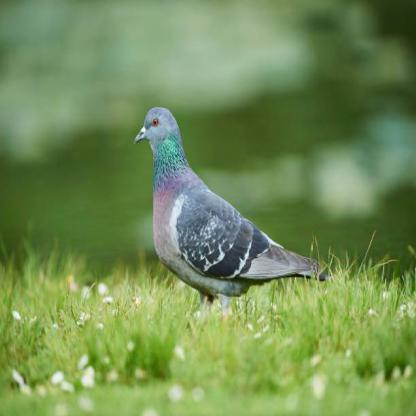Rock Pigeon: (132, 106, 327, 302)
